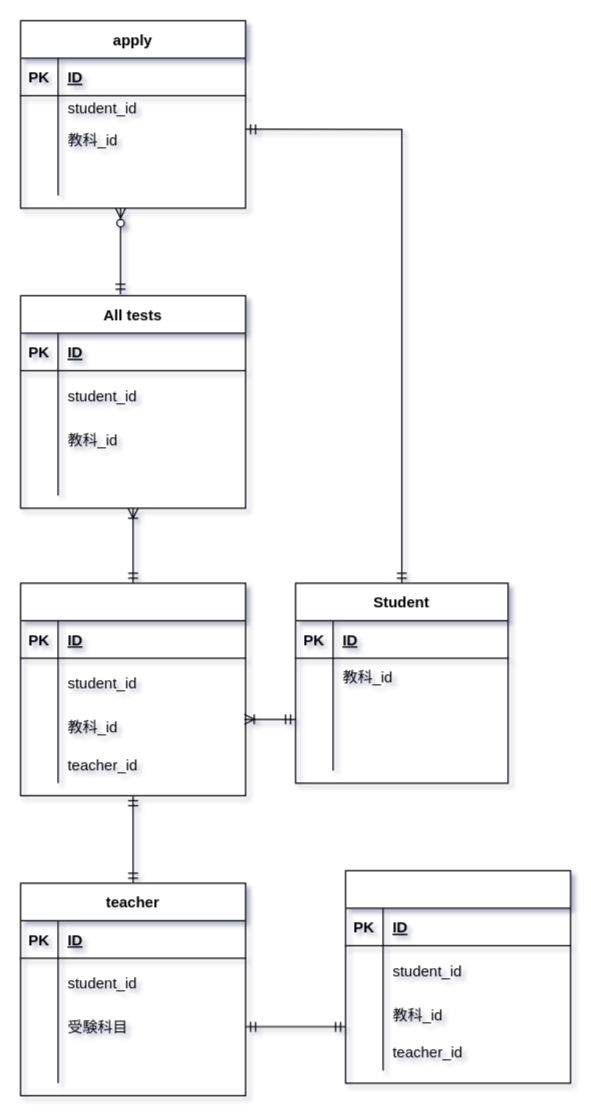
This 591x1116 diagram has some shape labels left out. The shapes that lost their labels are listed below. From the top down, each one's box as (x1, y1, x2, y2) in pixels, then its label:
(19, 582, 246, 796): test
(344, 869, 571, 1083): point&comments
